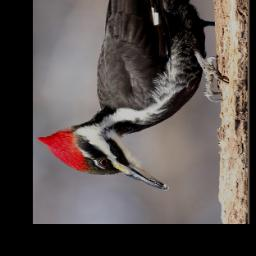Woodpecker: (37, 0, 224, 194)
